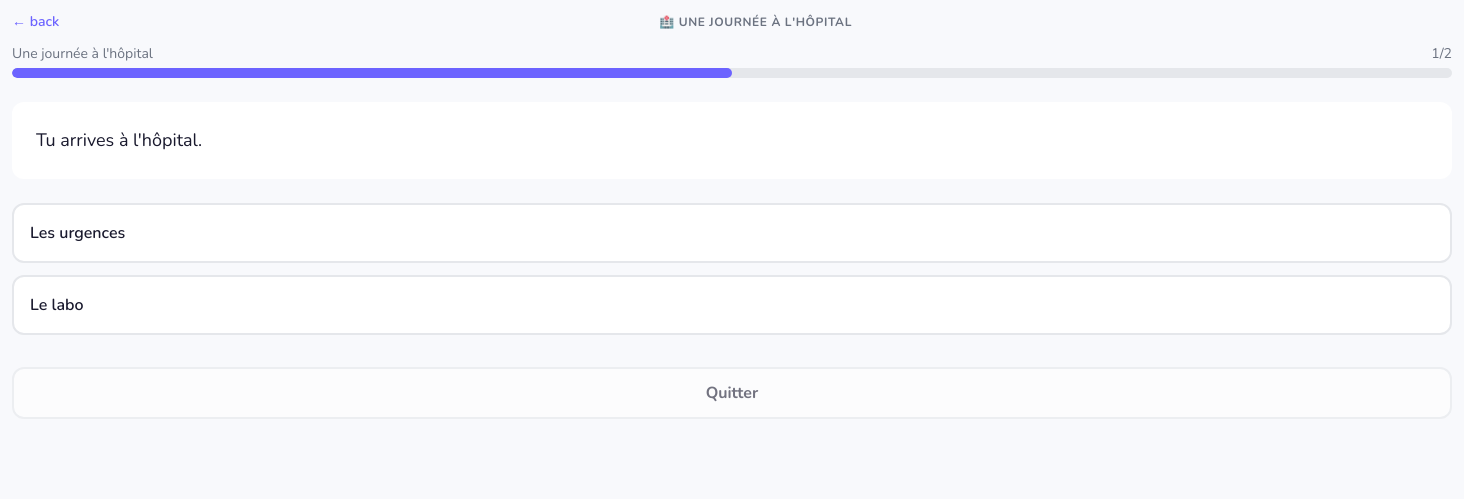
Scenario: ScenarioPlayer › shows continue link on final scene
The image size is (1464, 499).
What coordinates should you click on to do the following:
click the button "Le labo"
I would click on:
 (57, 305)
Its box is [12,275,1452,335].
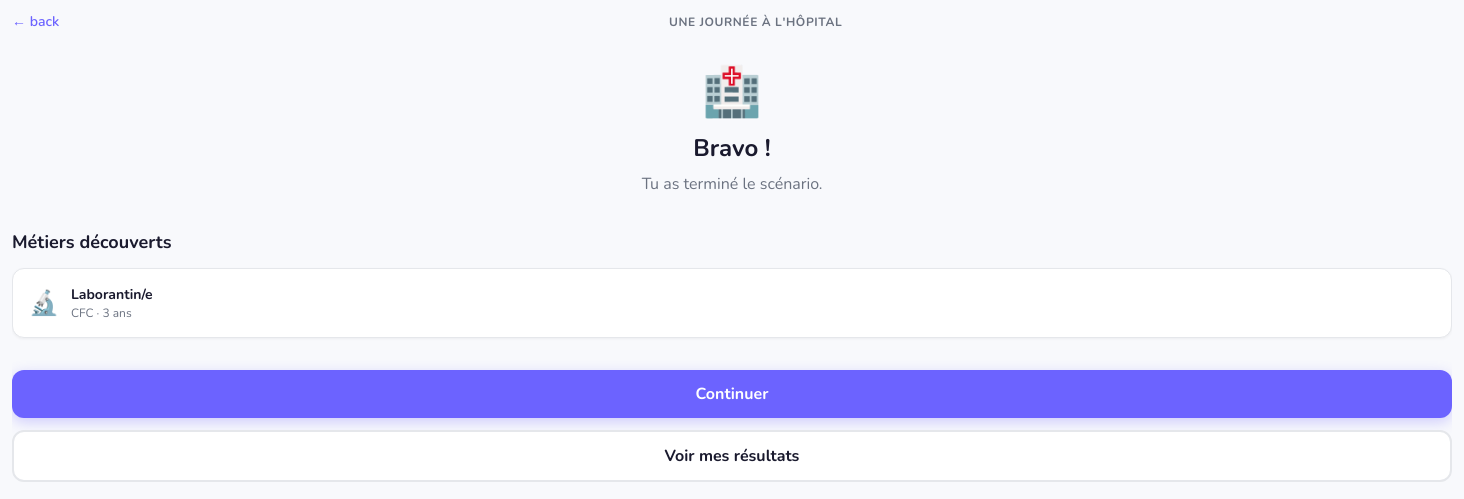
expect the link "Continuer" is shown: met, box [12,370,1452,418]
